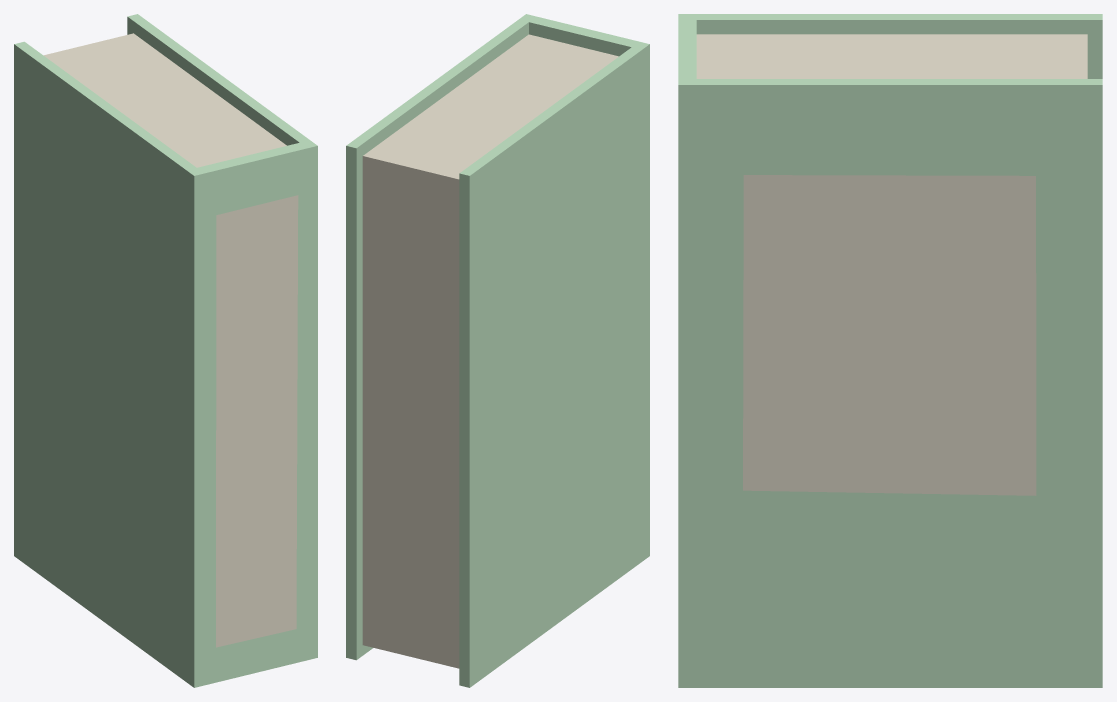
File: book.fbx
3 renders of one model, left to right at view 1: azimuth 30°, elevation 25°; view 2: azimuth 150°, elevation 25°; view 3: azimuth 270°, elevation 25°, orthographic. The views are drawn at different scales.
Visible parts, largest first — view 1: Boole_4; view 2: Boole_4; view 3: Boole_4.
Boxes of the visible parts, left/top/right/bottom form: Boole_4: left=14, top=14, right=317, bottom=687; Boole_4: left=346, top=14, right=649, bottom=687; Boole_4: left=678, top=14, right=1102, bottom=687.
Size of the model in its own units: 11.73 by 46.4 by 29.58.
